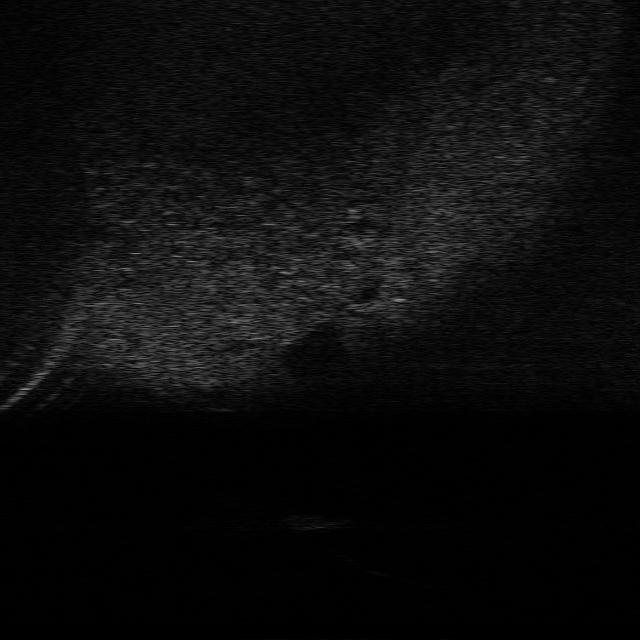cube: (281, 511, 334, 532)
